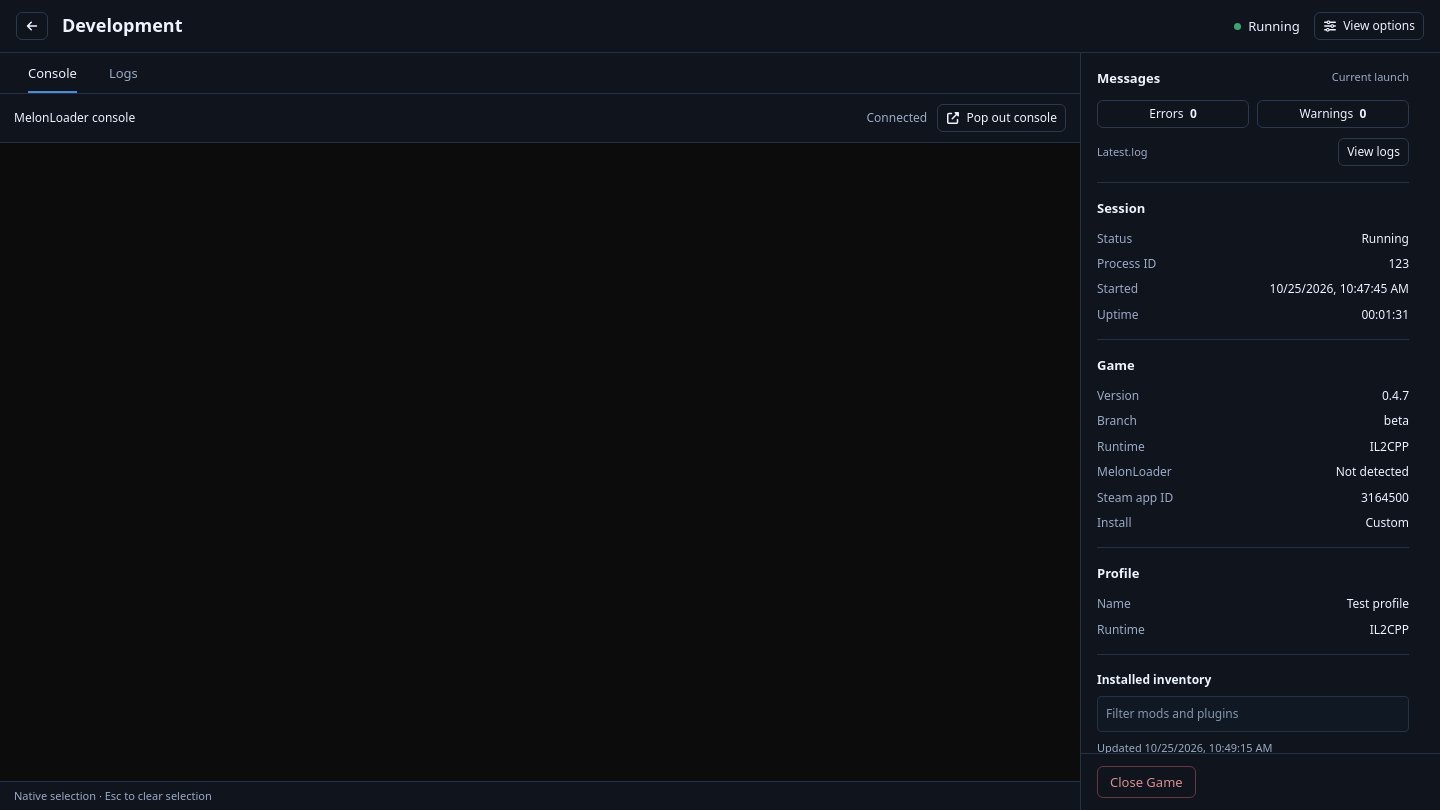
Scenario: Native Console › reports a failed pop-out without claiming the window was restored
What coordinates should you click on to do the following:
click the button "Pop out console"
I would click on:
 (1002, 118)
Its box is [937,104,1066,132].
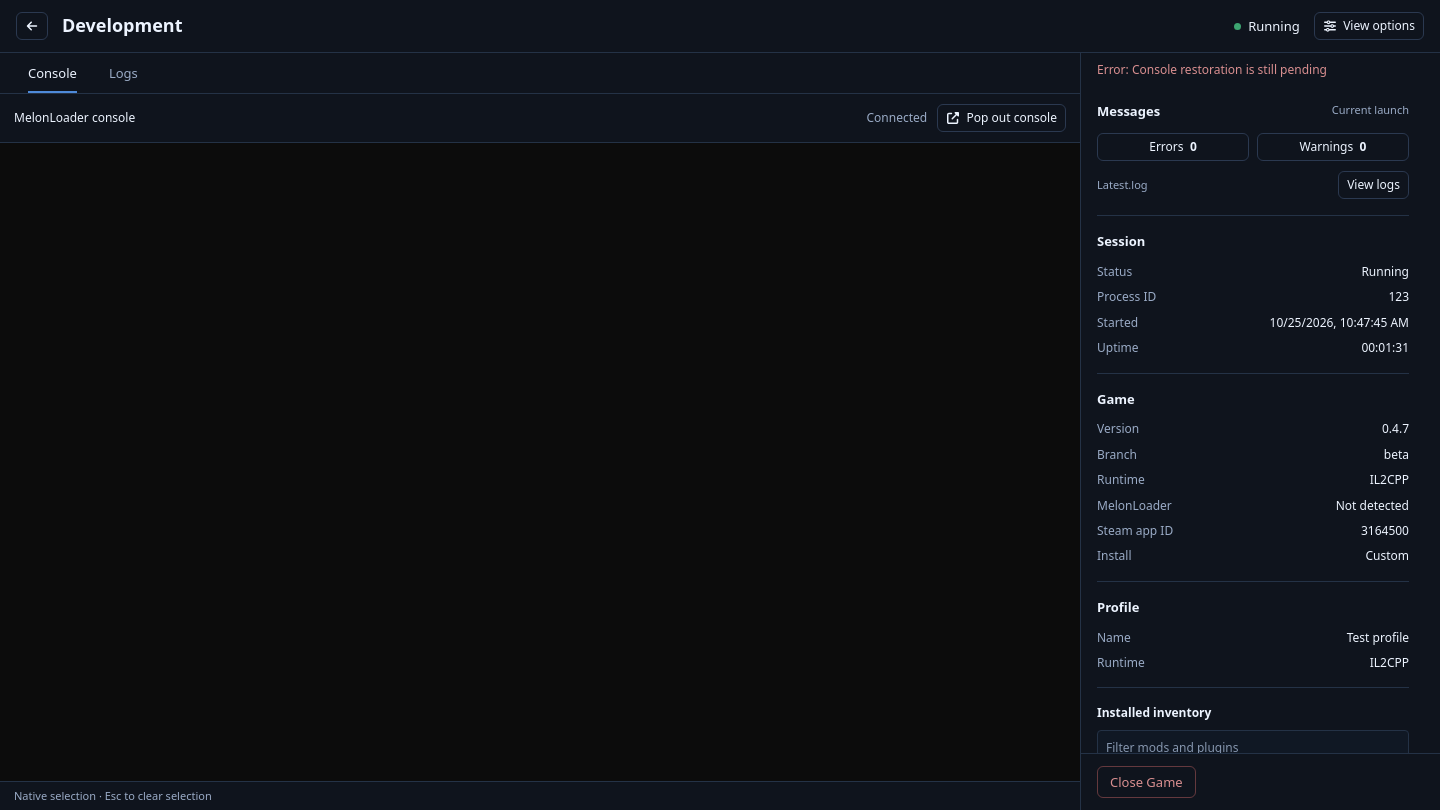
Expected: the message "Error: Console restoration is still pending" is shown, [1097,61,1327,78]
